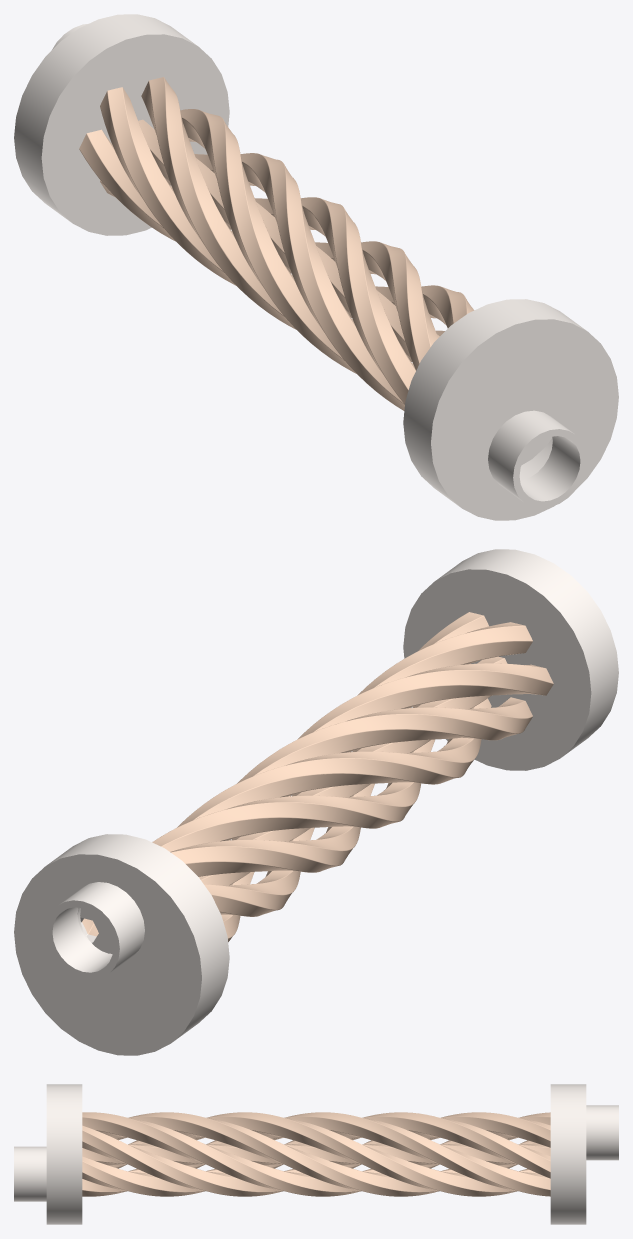
Rendered from swirled_hexagonal_Inner_Part.glb.
3 views of the same model, one above another, from view 1: azimuth 30°, elevation 25°; view 2: azimuth 150°, elevation 25°; view 3: azimuth 270°, elevation 25° (orthographic). The views are drawn at different scales.
Visible parts, largest first — view 1: swirled hexagonal Inner Part; view 2: swirled hexagonal Inner Part; view 3: swirled hexagonal Inner Part.
Part boxes in pixels (x1=…): swirled hexagonal Inner Part: x1=14, y1=14, x2=618, y2=520; swirled hexagonal Inner Part: x1=14, y1=549, x2=618, y2=1055; swirled hexagonal Inner Part: x1=14, y1=1084, x2=618, y2=1224.
Bounding box in the file's own units: 0.0432 × 0.043 × 0.186.
